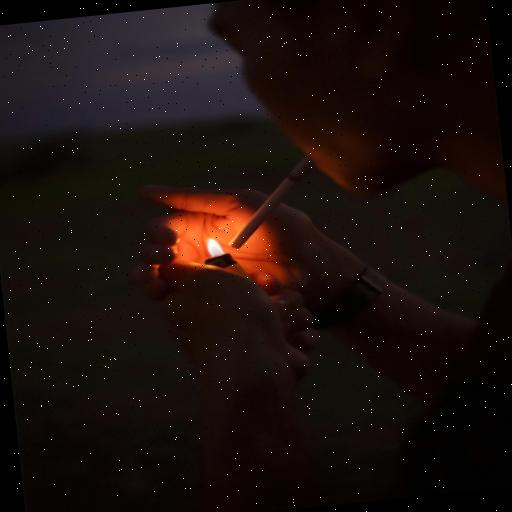membakar rokok: (128, 80, 403, 342)
